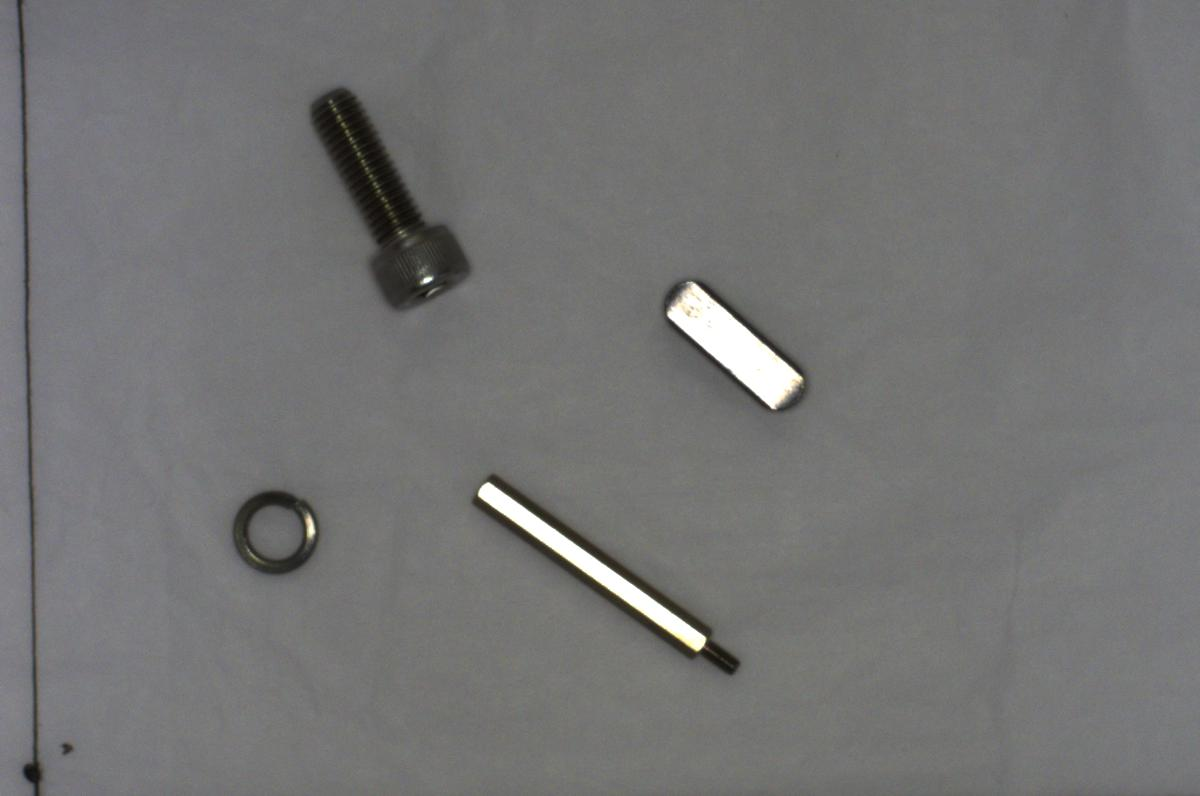Hexagon screw: (298, 78, 481, 322)
Hexagonal steel column: (461, 461, 753, 682)
Keybar: (646, 263, 813, 419)
Spring washer: (224, 483, 327, 575)
